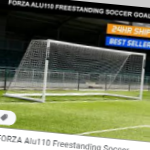goals: (3, 37, 149, 105)
